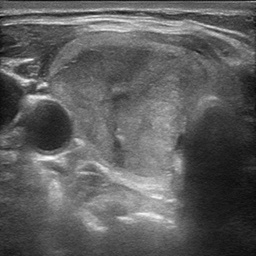mass: (51, 34, 210, 176)
